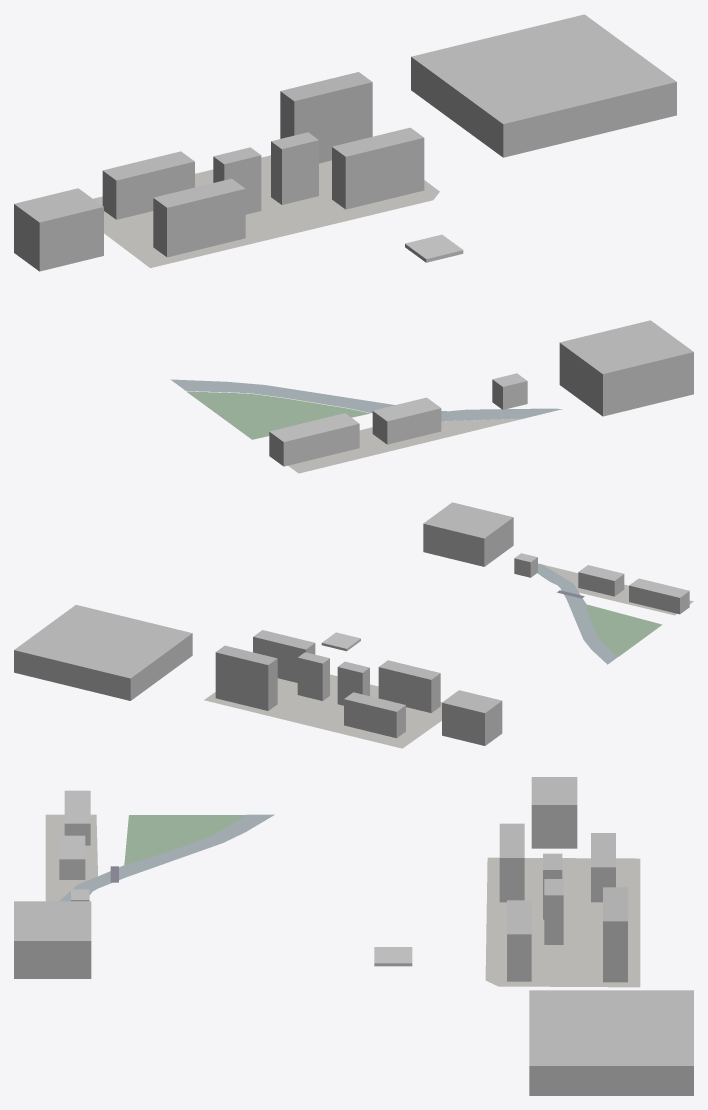
The model's file is 126_75_mid.glb.
The picture shows the model from 3 angles, top to bottom: view 1: azimuth 30°, elevation 25°; view 2: azimuth 150°, elevation 25°; view 3: azimuth 270°, elevation 25°; orthographic projection. The views are drawn at different scales.
Size of the model in its own units: 566 by 57.41 by 572.
